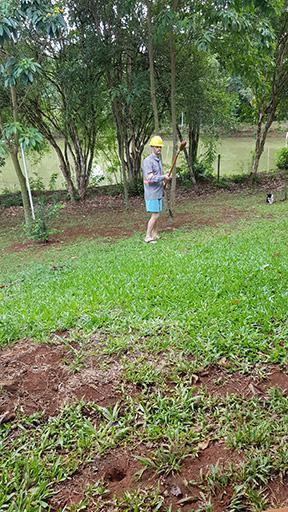helmet: (149, 135, 164, 154)
